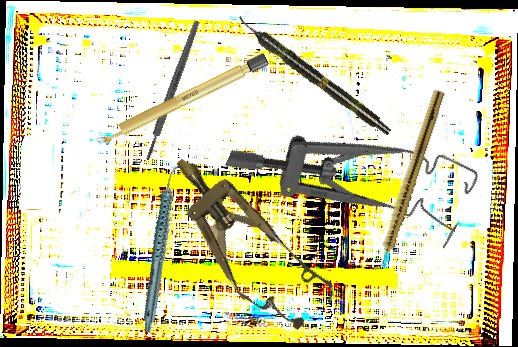Handpiece: (233, 12, 395, 139), (110, 163, 213, 334), (371, 87, 446, 275)
Scalpel Handle: (92, 51, 271, 149), (143, 19, 202, 162)
Speculum: (223, 72, 483, 268), (148, 134, 343, 345)
